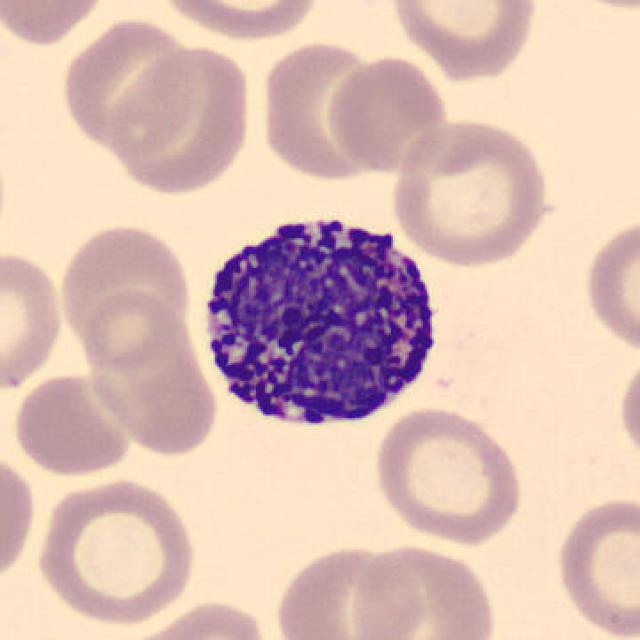Basophil: (191, 196, 454, 440)
RBC: (386, 114, 556, 270), (30, 474, 201, 628), (107, 41, 256, 198), (370, 402, 526, 548), (55, 14, 203, 159), (55, 217, 194, 370), (322, 50, 452, 176), (270, 539, 424, 640), (348, 539, 501, 640), (9, 368, 135, 479), (549, 490, 640, 640), (384, 0, 542, 83), (0, 245, 68, 397), (76, 286, 190, 374), (580, 210, 638, 360), (151, 0, 325, 44), (114, 596, 276, 640), (0, 446, 39, 589), (0, 0, 112, 49), (615, 348, 640, 472), (542, 0, 638, 16)
